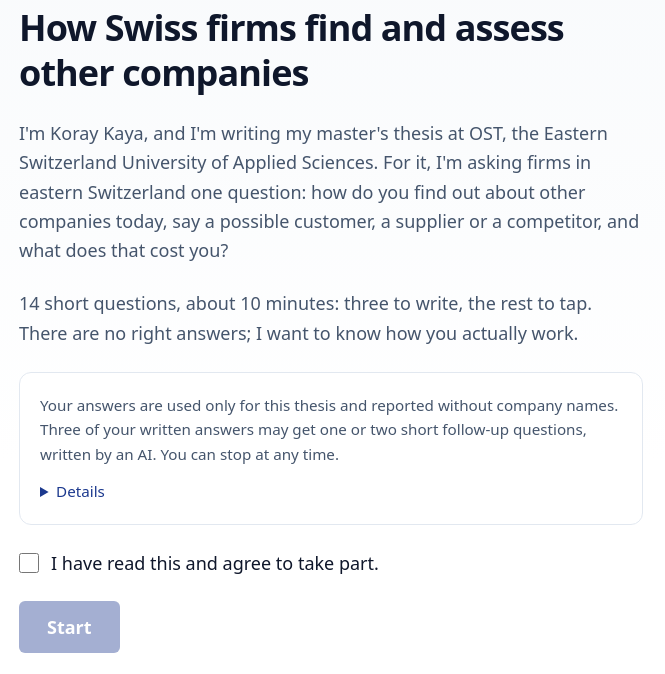
Scenario: Form › says plainly when too many requests came from this network, at the start
Click the checkbox: point(29, 563) x1=19 y1=553 x2=39 y2=573
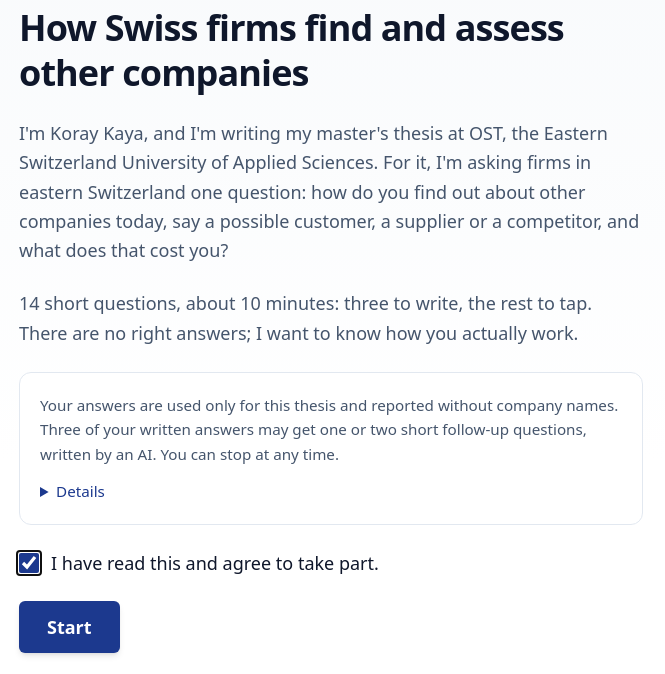
Click the button "Start": point(69, 627) x1=19 y1=601 x2=120 y2=653
(page scrolled)
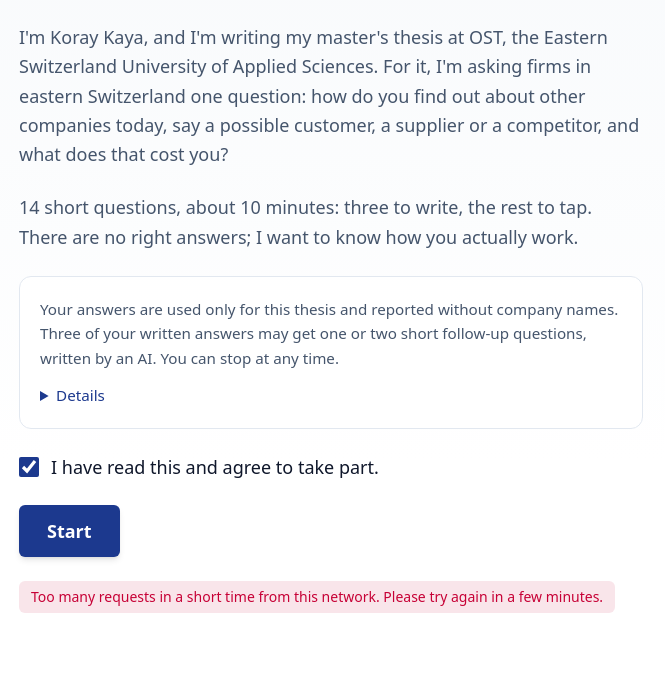
Now the message shows "Too many requests", box x1=31 y1=587 x2=603 y2=606
